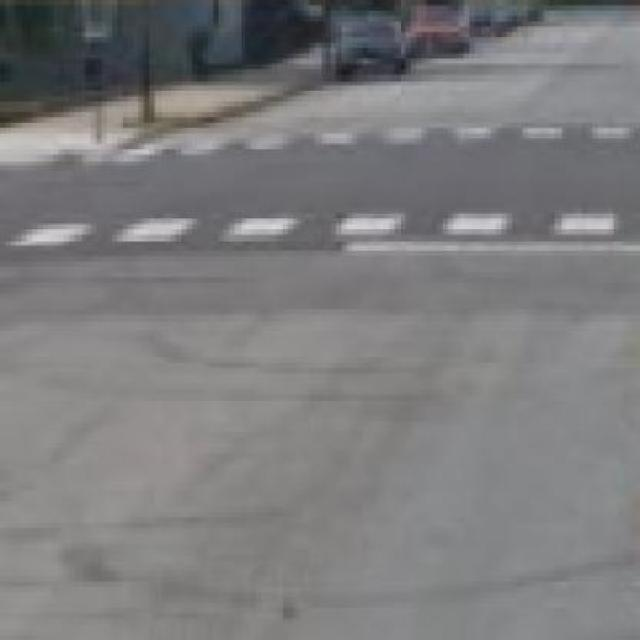crosswalk: (9, 210, 619, 248)
